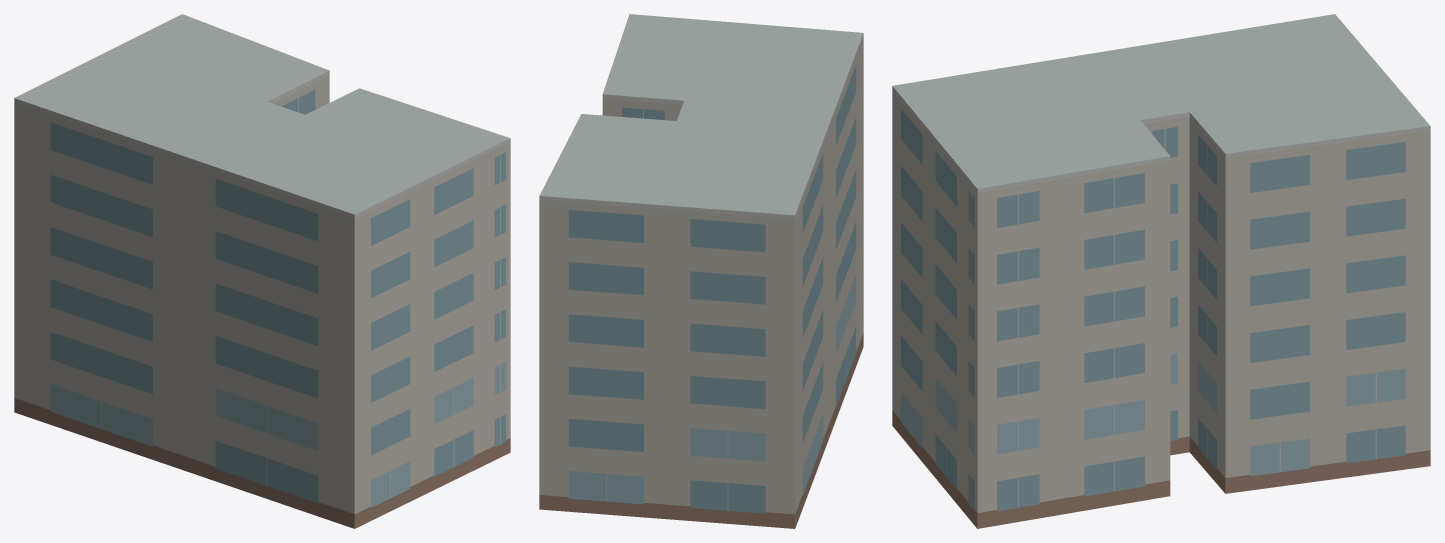
File: survey-upis-32857021.glb
3 views of the same model, side by side, from view 1: azimuth 30°, elevation 25°; view 2: azimuth 150°, elevation 25°; view 3: azimuth 270°, elevation 25° (orthographic). The views are drawn at different scales.
Parts seen in each view (by area): view 1: survey-upis-32857021.tmp; view 2: survey-upis-32857021.tmp; view 3: survey-upis-32857021.tmp.
Part boxes in pixels (bbox=[...]): survey-upis-32857021.tmp: bbox=[14, 14, 510, 528]; survey-upis-32857021.tmp: bbox=[539, 14, 863, 528]; survey-upis-32857021.tmp: bbox=[892, 14, 1430, 528].
Size of the model in its own units: 20.78 by 18.83 by 27.02.
